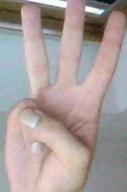W: (0, 0, 127, 187)
